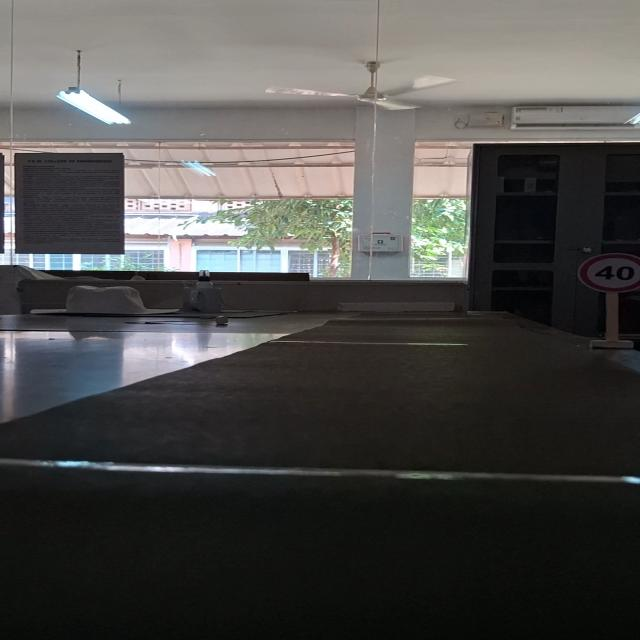Speed40: (575, 251, 640, 294)
